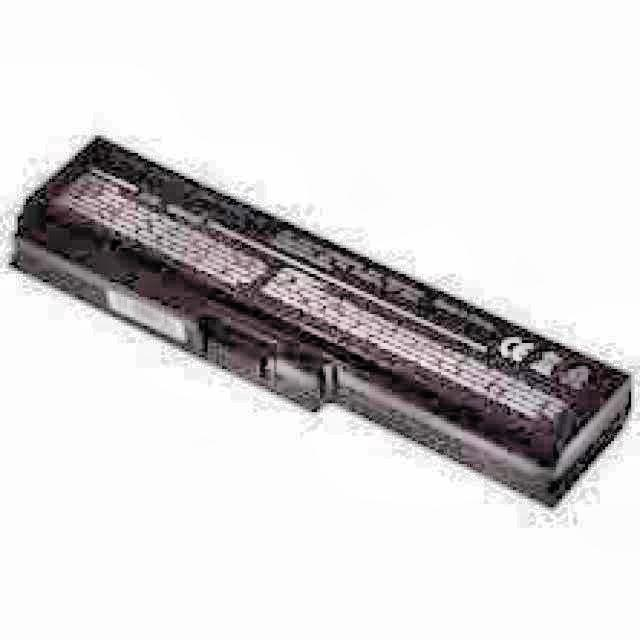Non-Valuable Waste - Batteries: (14, 135, 628, 505)
